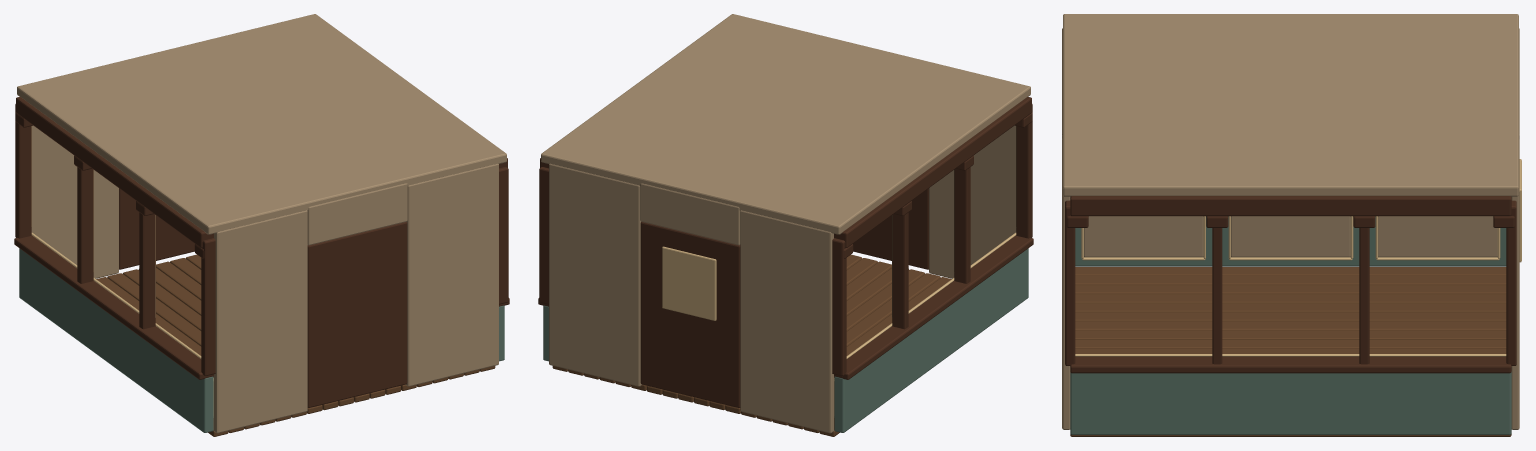
File: carriage-interior-shell.glb
The picture shows the model from 3 angles, left to right: view 1: azimuth 30°, elevation 25°; view 2: azimuth 150°, elevation 25°; view 3: azimuth 270°, elevation 25°; orthographic projection. The views are drawn at different scales.
Parts seen in each view (by area): view 1: Ivory ceiling, End wall.002, End wall.003, End door.001, Rose lower wall, End wall, Door lintel.001, Wooden window sill, Upper cornice, End door, Window upright.003, Window upright.001 (+10 smaller); view 2: Ivory ceiling, End wall, End wall.001, End door, Rose lower wall, End wall.002, Door lintel, Wooden window sill, Upper cornice, Door upper glass surround, End door.001, Window upright (+11 smaller); view 3: Ivory ceiling, Rose lower wall.001, Upper cornice.001, Wooden window sill.001, Raised wall panel.001, Raised wall panel, Raised wall panel.002, Rose lower wall, Oak floor plank 04, Oak floor plank 01, Oak floor plank 02, Oak floor plank 03 (+17 smaller).
Part boxes in pixels (x1,y1,x2,y2): Ivory ceiling: [17, 14, 506, 234]; End wall.002: [214, 210, 307, 433]; End wall.003: [405, 163, 498, 386]; End door.001: [307, 222, 407, 407]; Rose lower wall: [19, 248, 213, 432]; End wall: [31, 125, 118, 278]; Door lintel.001: [307, 183, 407, 245]; Wooden window sill: [14, 235, 213, 379]; Upper cornice: [16, 97, 213, 247]; End door: [119, 188, 194, 269]; Window upright.003: [201, 238, 215, 376]; Window upright.001: [77, 167, 93, 283]; Ivory ceiling: [541, 14, 1030, 234]; End wall: [740, 210, 833, 433]; End wall.001: [549, 163, 642, 386]; End door: [640, 222, 740, 407]; Rose lower wall: [834, 248, 1028, 432]; End wall.002: [929, 125, 1016, 278]; Door lintel: [640, 183, 740, 245]; Wooden window sill: [834, 235, 1033, 379]; Upper cornice: [834, 97, 1031, 247]; Door upper glass surround: [662, 246, 716, 320]; End door.001: [853, 188, 928, 269]; Window upright: [832, 238, 846, 376]; Ivory ceiling: [1063, 14, 1518, 196]; Rose lower wall.001: [1070, 372, 1511, 434]; Upper cornice.001: [1070, 196, 1511, 216]; Wooden window sill.001: [1070, 356, 1511, 373]; Raised wall panel.001: [1231, 216, 1350, 257]; Raised wall panel: [1378, 216, 1497, 257]; Raised wall panel.002: [1084, 216, 1203, 257]; Rose lower wall: [1075, 216, 1506, 266]; Oak floor plank 04: [1075, 303, 1506, 312]; Oak floor plank 01: [1075, 276, 1506, 285]; Oak floor plank 02: [1075, 285, 1506, 294]; Oak floor plank 03: [1075, 294, 1506, 303].
Size of the model in its own units: 5.8 by 3.84 by 6.25.
